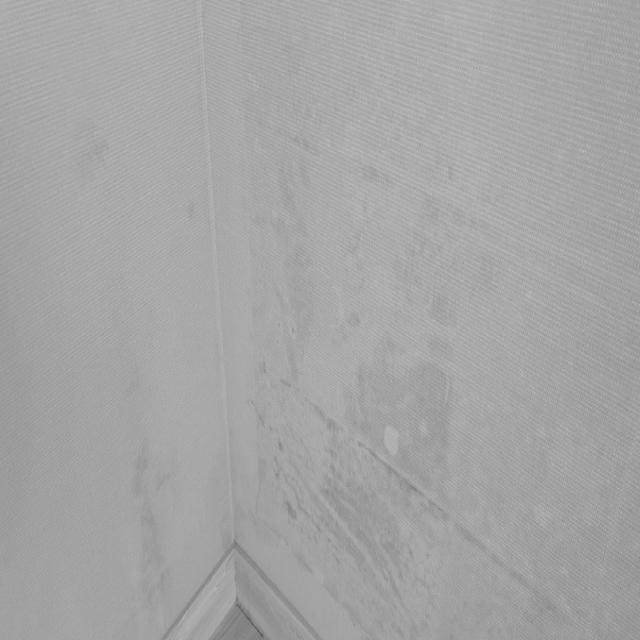stain marks: (228, 0, 640, 640), (126, 424, 172, 619), (53, 91, 118, 207), (182, 190, 200, 225)
